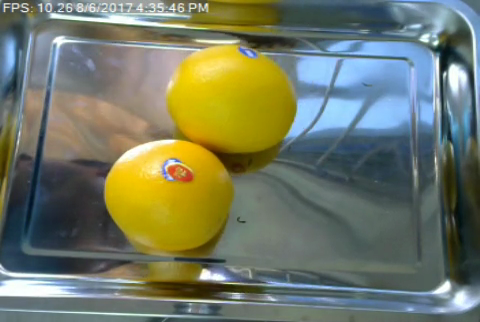Orange: (104, 137, 233, 249), (166, 44, 297, 152)
